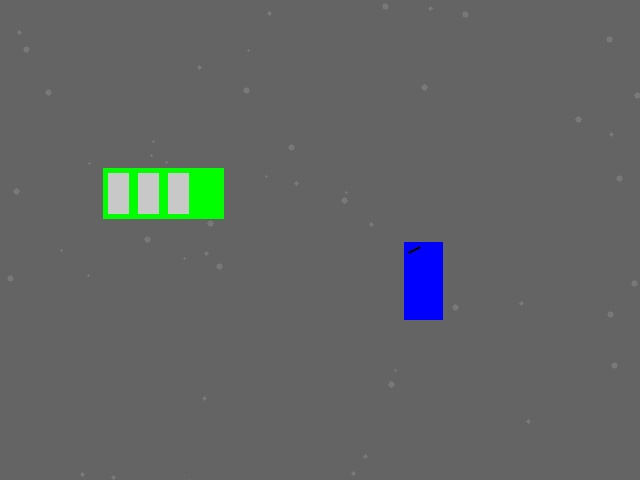bus: (103, 168, 223, 218)
motorcycle: (404, 242, 442, 319)
